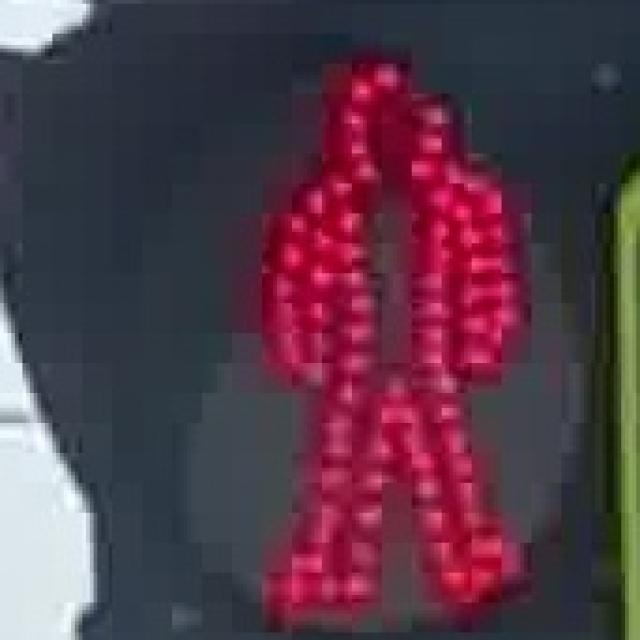red-crossing: (202, 38, 562, 630)
